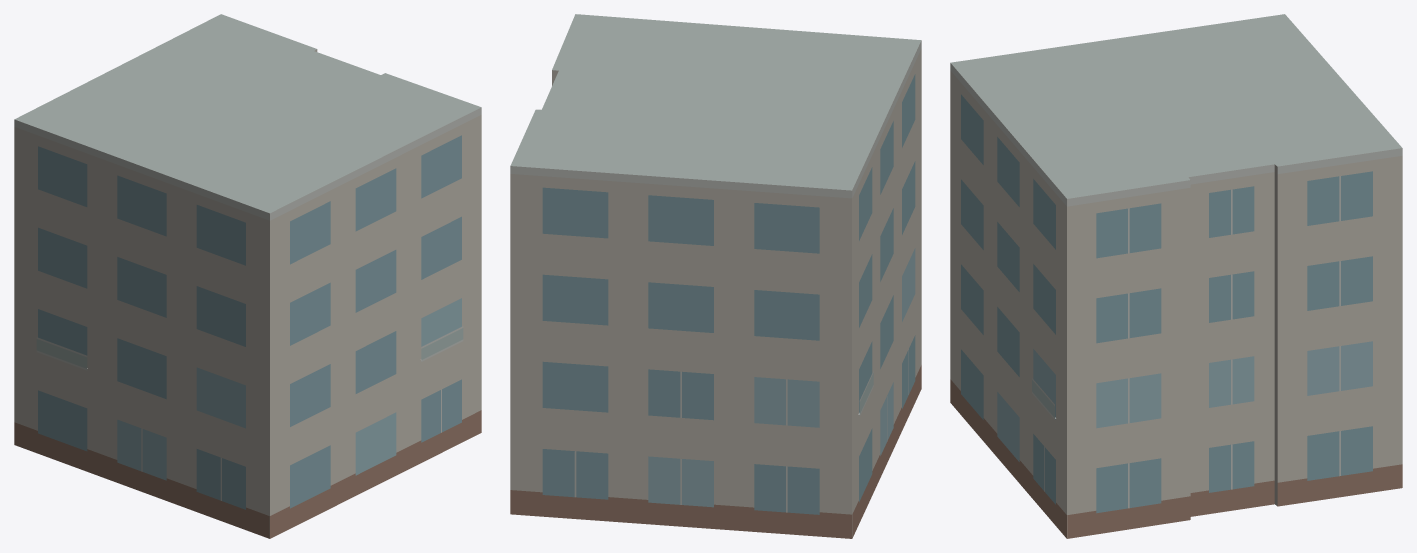
File: survey-upis-32701260.glb
The picture shows the model from 3 angles, left to right: view 1: azimuth 30°, elevation 25°; view 2: azimuth 150°, elevation 25°; view 3: azimuth 270°, elevation 25°; orthographic projection. The views are drawn at different scales.
Visible parts, largest first — view 1: survey-upis-32701260.tmp; view 2: survey-upis-32701260.tmp; view 3: survey-upis-32701260.tmp.
Part boxes in pixels (x1=…): survey-upis-32701260.tmp: x1=14, y1=14, x2=481, y2=538; survey-upis-32701260.tmp: x1=510, y1=14, x2=921, y2=538; survey-upis-32701260.tmp: x1=950, y1=14, x2=1402, y2=538.
Bounding box in the file's own units: 12.61 × 10.8 × 13.03.
